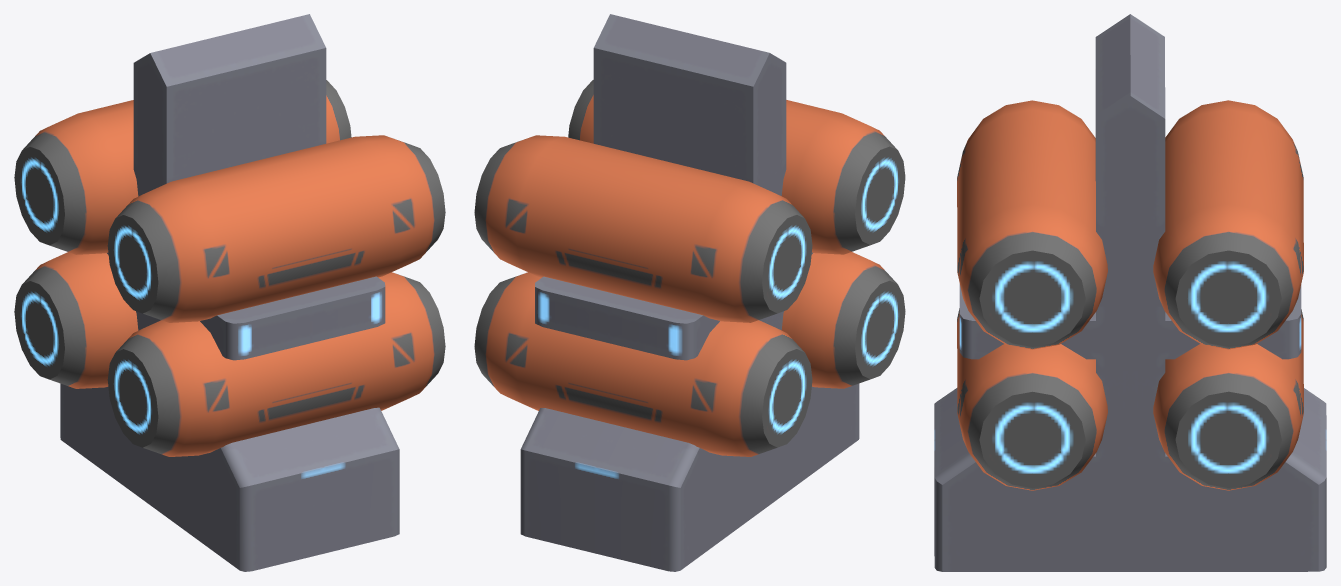
The model's file is Pfb_Soda_Instruments_09_GRP.fbx.
The picture shows the model from 3 angles, left to right: view 1: azimuth 30°, elevation 25°; view 2: azimuth 150°, elevation 25°; view 3: azimuth 270°, elevation 25°; orthographic projection. The views are drawn at different scales.
Visible parts, largest first — view 1: MAT_Soda_Instruments_Grey 1; view 2: MAT_Soda_Instruments_Grey 1; view 3: MAT_Soda_Instruments_Grey 1.
Part boxes in pixels (<box>): MAT_Soda_Instruments_Grey 1: <box>14,14,445,571</box>; MAT_Soda_Instruments_Grey 1: <box>474,14,905,571</box>; MAT_Soda_Instruments_Grey 1: <box>934,14,1326,571</box>.
Bounding box in the file's own units: 1.26 × 1.89 × 1.41.
1 material, 1 textured.
